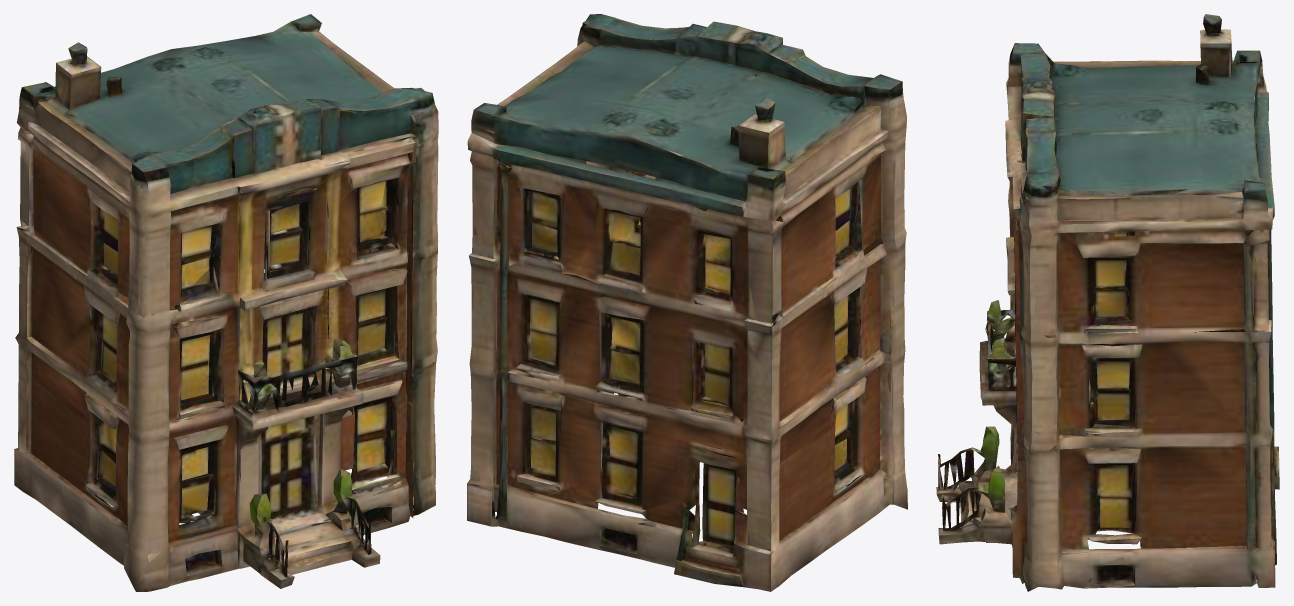
The model's file is villa_3.glb.
3 renders of one model, left to right at view 1: azimuth 30°, elevation 25°; view 2: azimuth 150°, elevation 25°; view 3: azimuth 270°, elevation 25°, orthographic. The views are drawn at different scales.
Visible parts, largest first — view 1: expansion__villa_3__neural_lod; view 2: expansion__villa_3__neural_lod; view 3: expansion__villa_3__neural_lod.
Part boxes in pixels (x1,y1,x2,y2): expansion__villa_3__neural_lod: (14, 14, 438, 591); expansion__villa_3__neural_lod: (467, 14, 907, 591); expansion__villa_3__neural_lod: (936, 14, 1279, 591).
Size of the model in its own units: 0.6988 by 0.9998 by 0.6786.
Materials: 1 (1 with a texture image).
